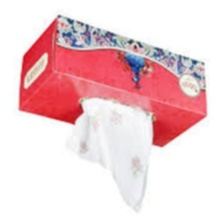book: (14, 12, 209, 150)
tissue: (61, 94, 157, 216)
